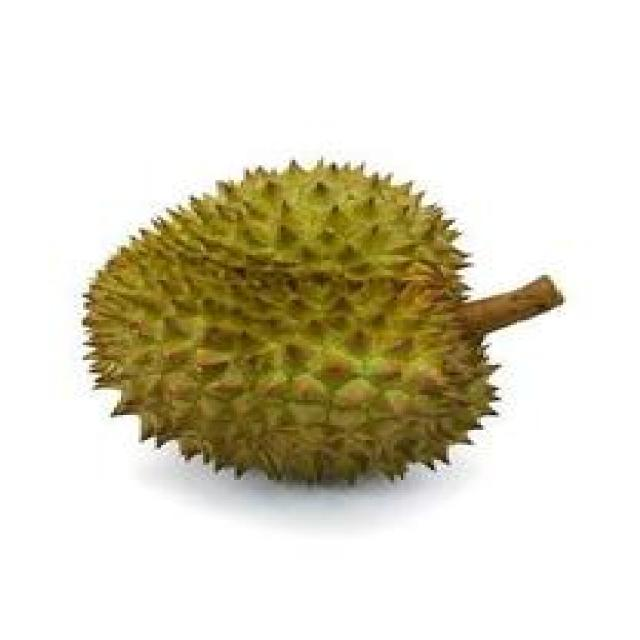fruit: (46, 142, 422, 532)
